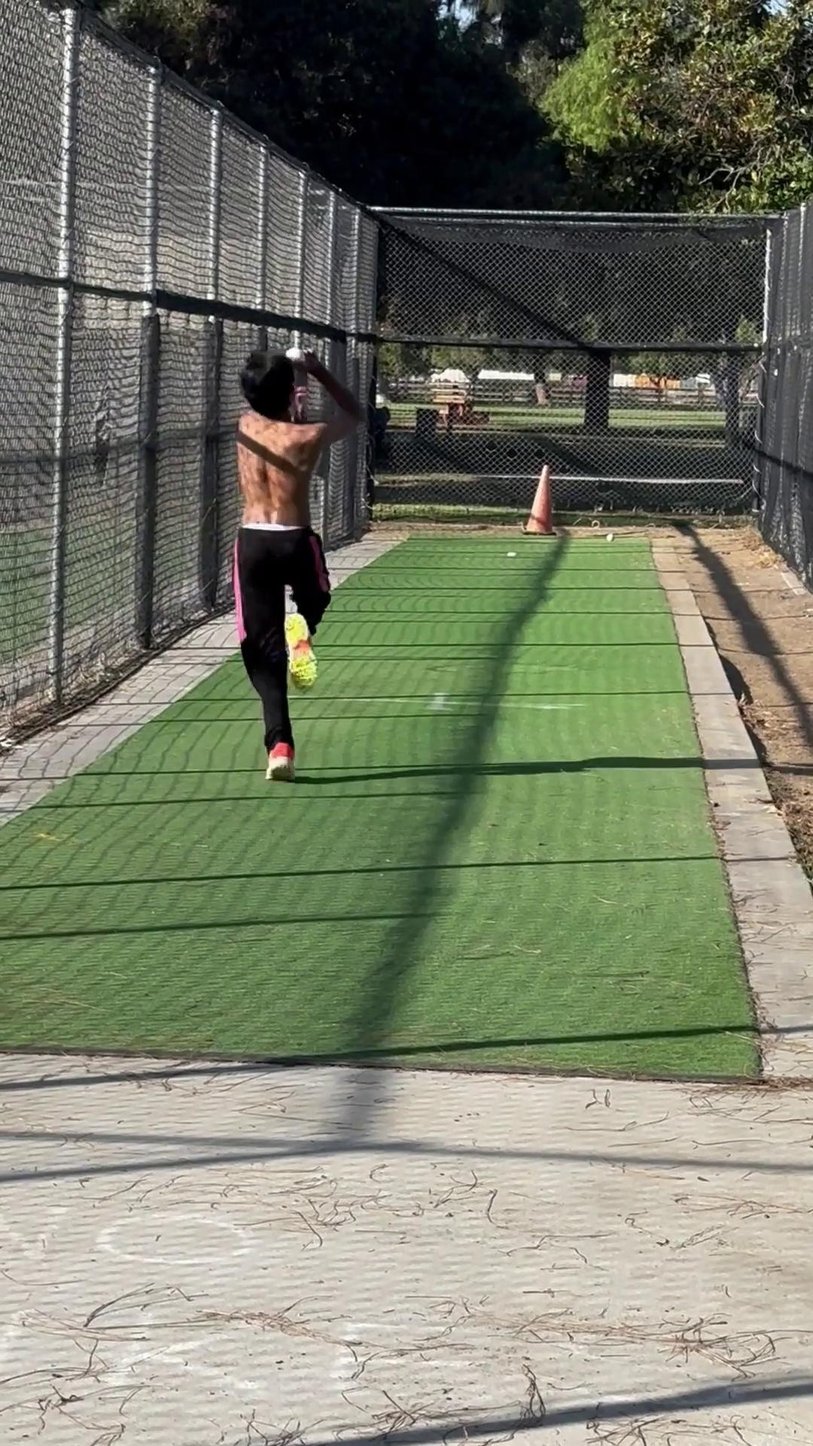ball: (276, 340, 316, 371)
